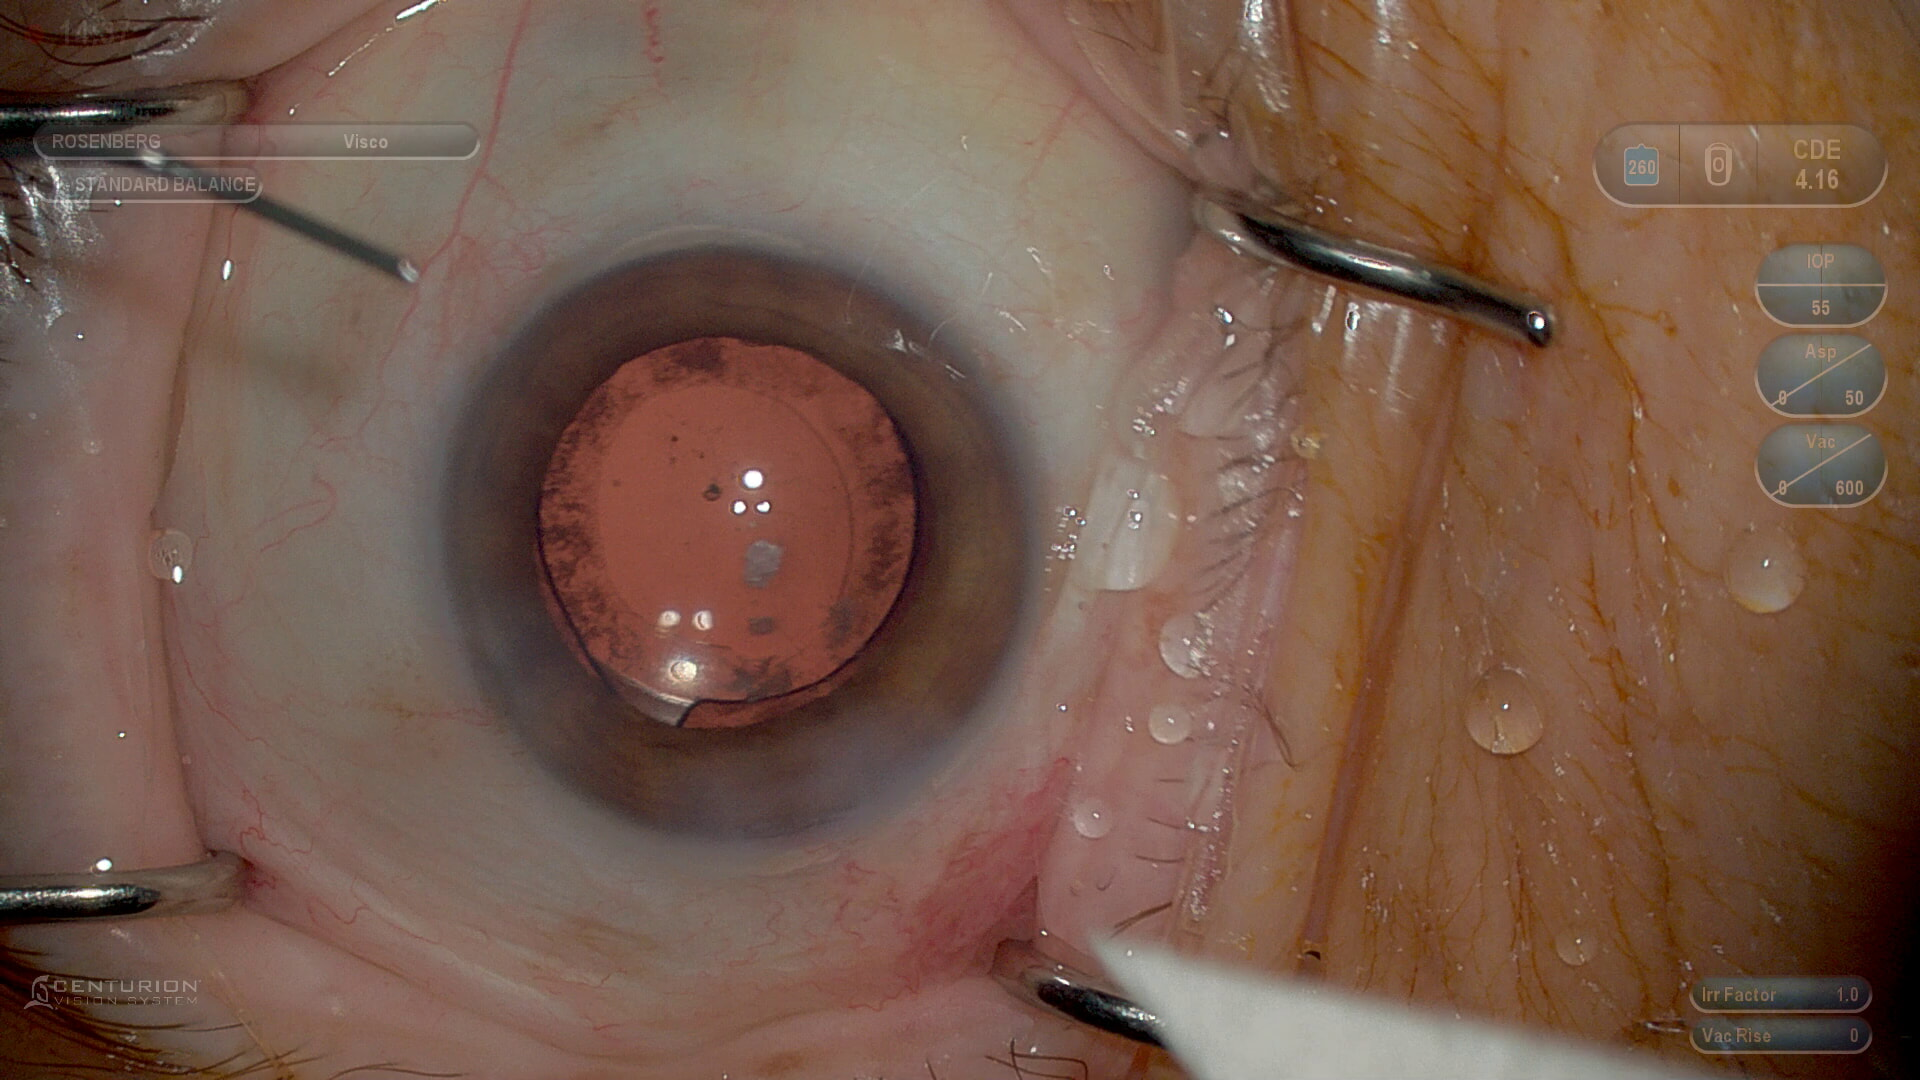iris: (454, 243, 1028, 836)
pupil: (537, 329, 927, 719)
